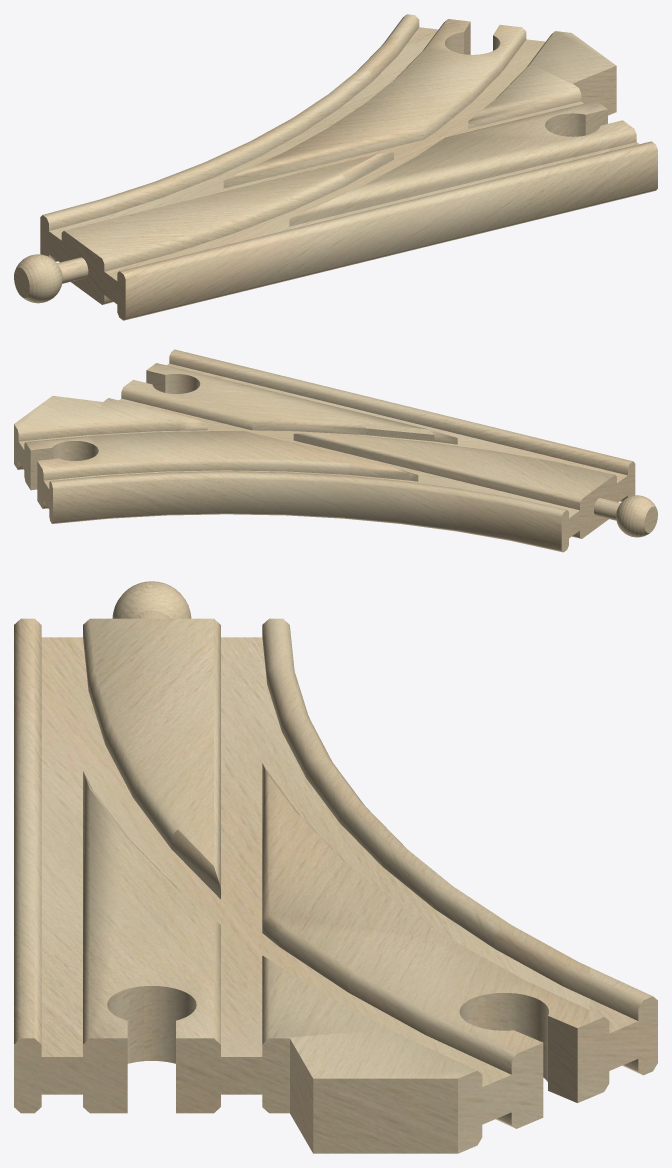
3 renders of one model, top to bottom at view 1: azimuth 30°, elevation 25°; view 2: azimuth 150°, elevation 25°; view 3: azimuth 270°, elevation 25°, orthographic. The views are drawn at different scales.
Parts seen in each view (by area): view 1: SketchUp, _3d_peg; view 2: SketchUp, _3d_peg; view 3: SketchUp, _3d_peg.
Boxes of the visible parts, x1,y1,x2,y2 form: SketchUp: (40,14,657,320); _3d_peg: (14,254,88,303); SketchUp: (14,349,635,552); _3d_peg: (594,495,657,537); SketchUp: (14,618,657,1153); _3d_peg: (112,581,191,618).
Size of the model in its own units: 6.87 by 3.68 by 0.4724.
